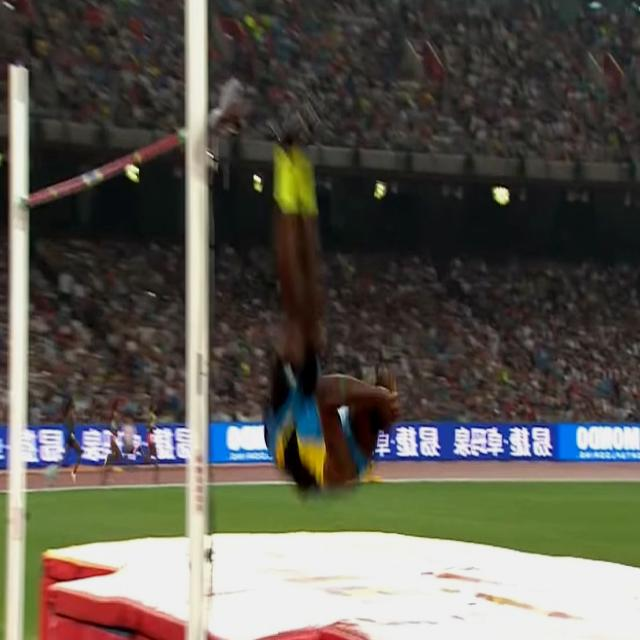land: (261, 89, 400, 494)
